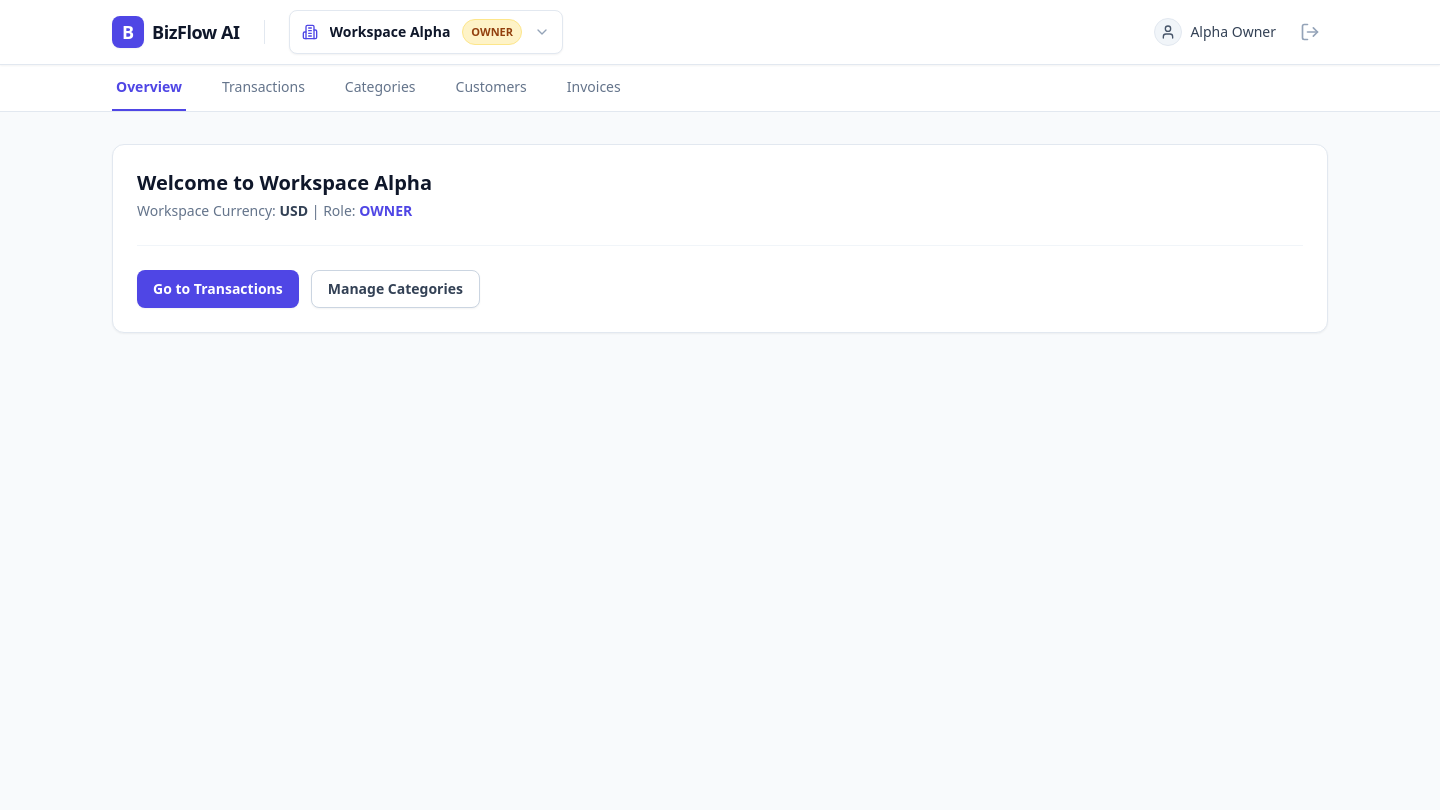
it: Layout Navigation, Concurrency & Category Regression Suite › Scenario 16: Stale Query Isolation drops delayed response from Workspace A after switch to B
The width and height of the screenshot is (1440, 810).
# Go to Transactions tab in Workspace A (request is in-flight and pending)
Click the tab "Transactions" at (263, 88), box 218,65 -> 309,111
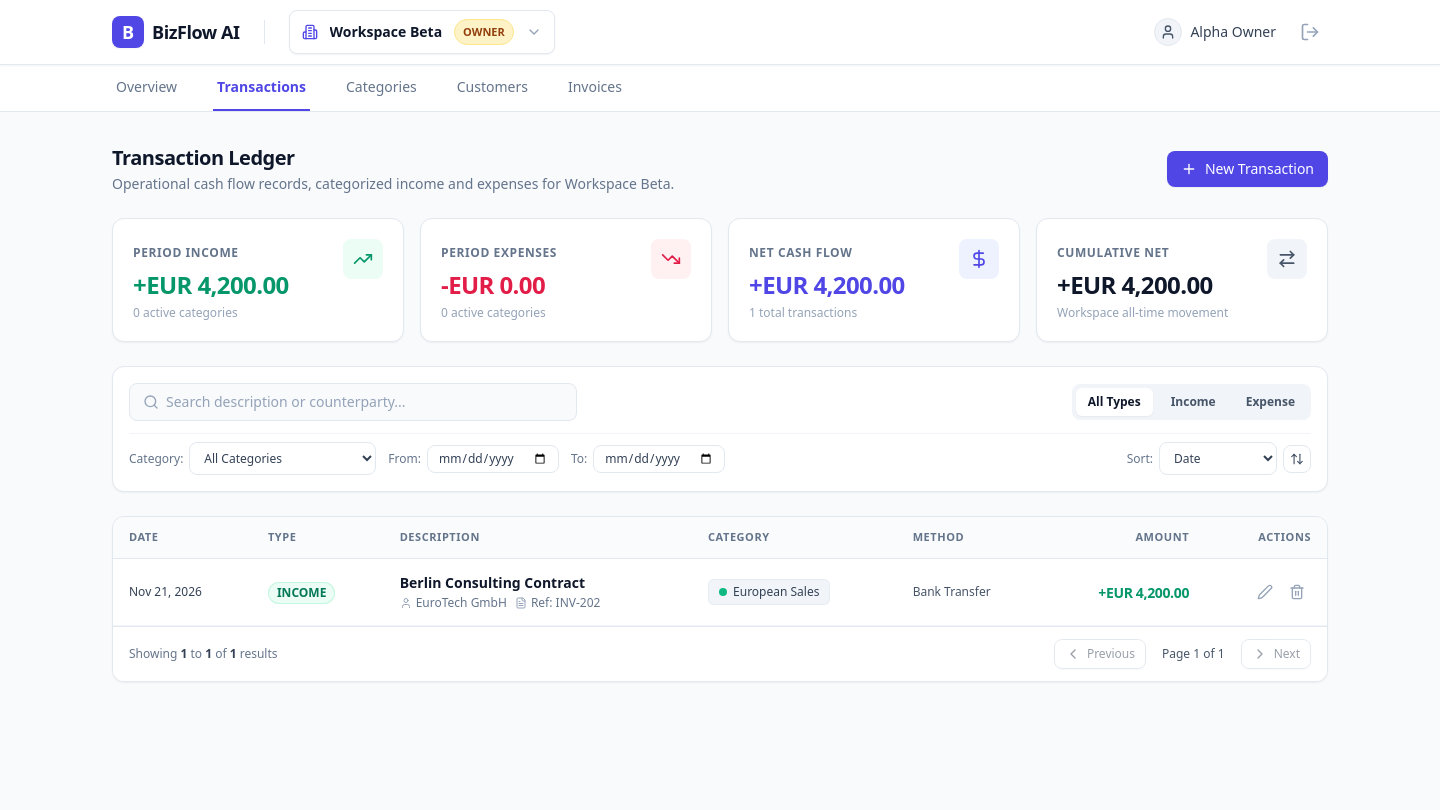
Now the text "Berlin Consulting Contract" is shown, box 400,572 -> 585,592
